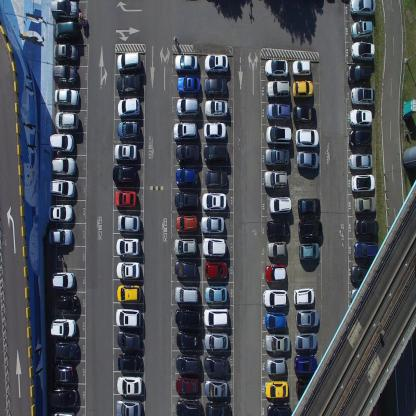car: (46, 386, 78, 408), (52, 63, 78, 86), (116, 374, 143, 396), (50, 0, 79, 20), (203, 142, 228, 165), (116, 73, 141, 96), (350, 86, 376, 108), (264, 332, 290, 354), (264, 146, 290, 168), (266, 124, 292, 146), (172, 120, 198, 142), (115, 306, 141, 328), (48, 178, 76, 198), (204, 52, 228, 75), (350, 286, 375, 308), (354, 240, 379, 262), (292, 104, 317, 126), (262, 168, 287, 190), (266, 101, 291, 123), (175, 142, 200, 164), (175, 97, 200, 119), (116, 51, 141, 73), (115, 235, 140, 257), (116, 328, 141, 350), (54, 110, 79, 132), (53, 19, 78, 41), (203, 306, 229, 327), (49, 362, 75, 383), (53, 42, 79, 63), (49, 317, 76, 337), (296, 306, 320, 328), (351, 40, 375, 62), (295, 127, 319, 149), (204, 76, 228, 98), (205, 353, 229, 375), (176, 352, 200, 374), (354, 217, 379, 238), (202, 236, 227, 257), (176, 75, 201, 96), (112, 164, 137, 185), (118, 351, 143, 372), (51, 156, 76, 177), (350, 173, 376, 193), (175, 308, 201, 328), (54, 87, 80, 107), (294, 353, 317, 375), (266, 78, 289, 100), (174, 258, 197, 280), (114, 188, 137, 210), (296, 378, 320, 399), (348, 127, 372, 148), (204, 98, 228, 119), (202, 191, 226, 212), (204, 377, 228, 398), (175, 167, 199, 188), (174, 53, 198, 74), (114, 142, 138, 163), (55, 339, 79, 360), (350, 264, 375, 284), (297, 219, 322, 239), (263, 288, 288, 308), (264, 58, 289, 78), (200, 215, 225, 235), (204, 332, 229, 352), (173, 236, 198, 256), (116, 260, 141, 280), (116, 282, 141, 302), (50, 270, 75, 290), (49, 132, 74, 152), (48, 203, 74, 222), (350, 19, 373, 40), (296, 149, 319, 170), (117, 97, 140, 118), (264, 379, 288, 399), (348, 64, 372, 84), (266, 218, 290, 238), (203, 120, 227, 140), (204, 260, 228, 280), (174, 190, 198, 210), (176, 330, 201, 349), (176, 397, 202, 415), (116, 397, 142, 415), (292, 79, 314, 100), (295, 330, 318, 350), (264, 310, 287, 330), (175, 213, 198, 233), (349, 108, 373, 127), (204, 285, 228, 304), (175, 375, 199, 394), (117, 121, 141, 140), (174, 285, 199, 303), (293, 286, 315, 306), (297, 197, 320, 216), (269, 196, 292, 215), (117, 213, 140, 232), (57, 294, 80, 313), (349, 152, 373, 170), (349, 0, 376, 16), (204, 169, 228, 187), (48, 228, 72, 246), (265, 356, 287, 375), (265, 263, 287, 282), (205, 400, 231, 416), (354, 196, 377, 214), (298, 241, 320, 259), (267, 240, 287, 258), (292, 59, 311, 77), (266, 402, 291, 415), (54, 408, 76, 416)
